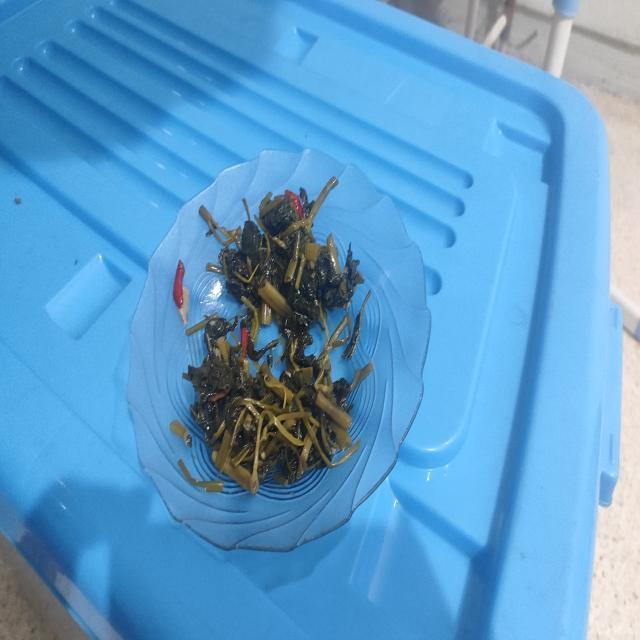tumis_kangkung: (183, 332, 373, 494), (218, 190, 364, 326)
